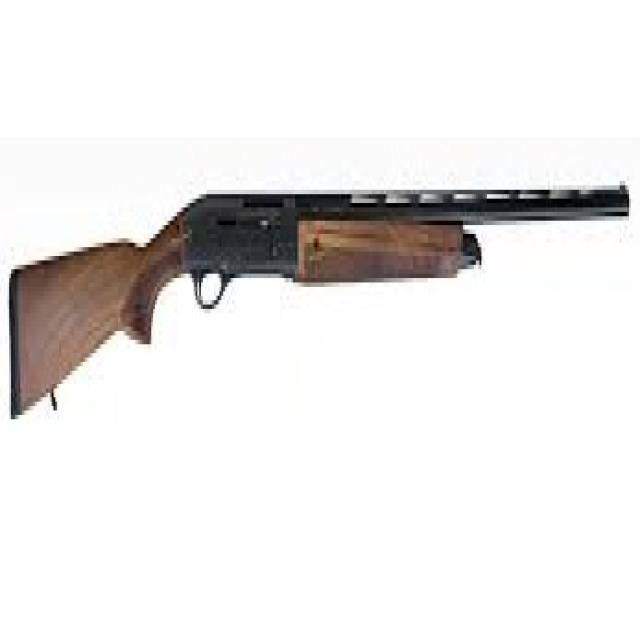rifle: (7, 170, 634, 442)
